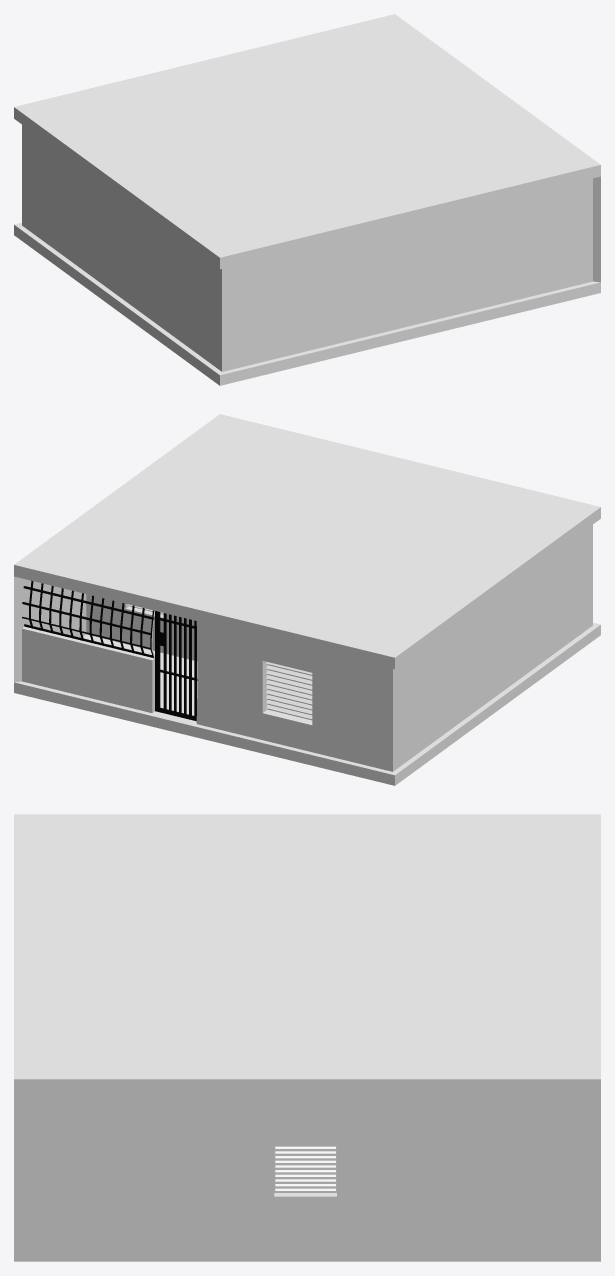
File: casacomun3.fbx
The picture shows the model from 3 angles, top to bottom: view 1: azimuth 30°, elevation 25°; view 2: azimuth 150°, elevation 25°; view 3: azimuth 270°, elevation 25°; orthographic projection. The views are drawn at different scales.
Parts seen in each view (by area): view 1: building_001; view 2: building_001, Cube; view 3: building_001.
Part boxes in pixels (x1,y1,x2,y2): building_001: (14, 14, 600, 385); building_001: (14, 414, 600, 785); Cube: (155, 611, 197, 721); building_001: (14, 814, 600, 1261).
Size of the model in its own units: 753 by 242 by 705.
